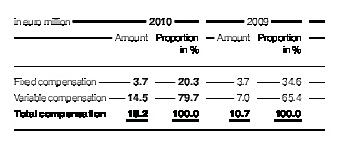table: (0, 0, 345, 145)
